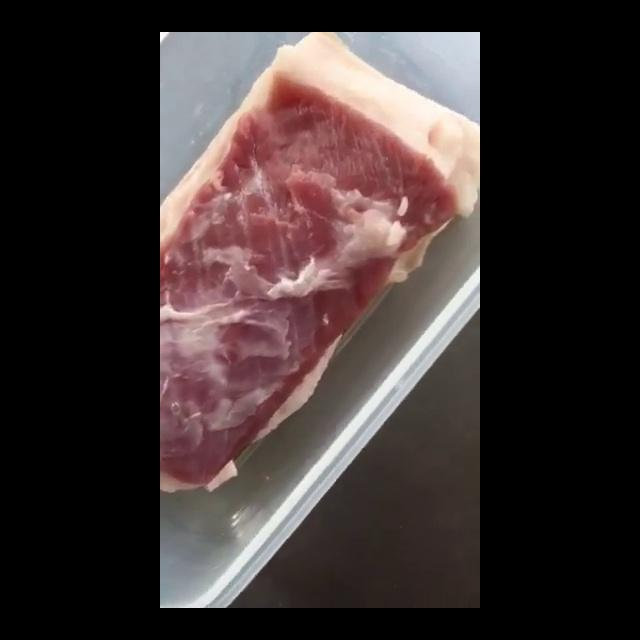pork: (160, 32, 480, 495), (160, 32, 162, 34)
